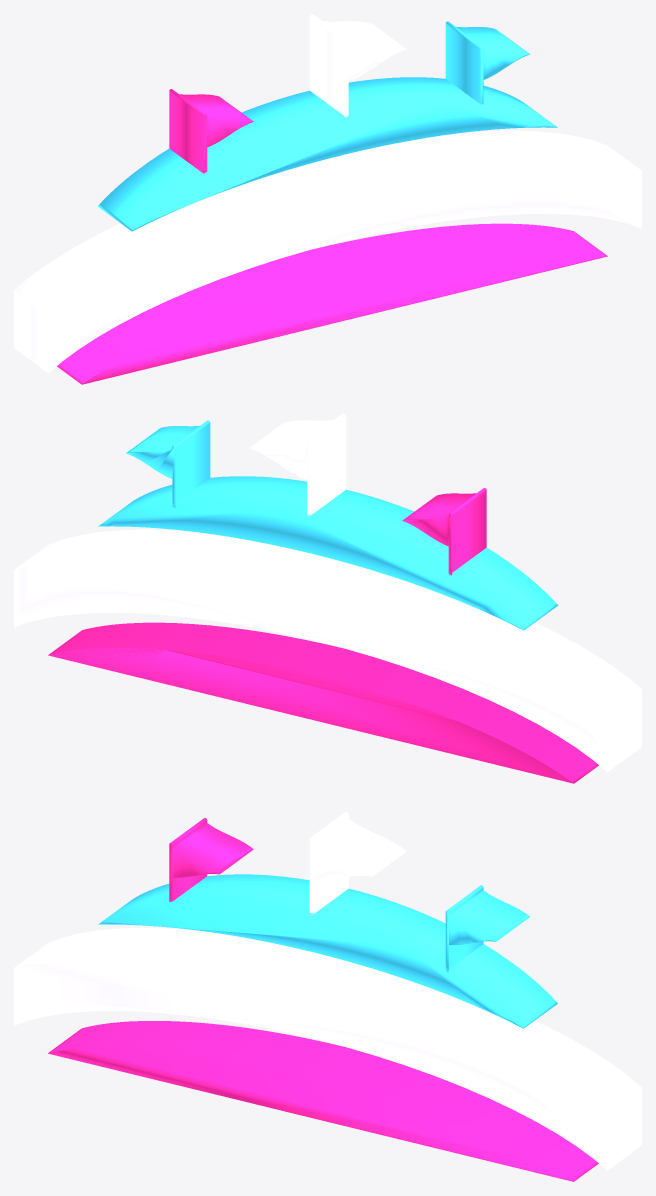
The model's file is asset.glb.
The picture shows the model from 3 angles, top to bottom: view 1: azimuth 30°, elevation 25°; view 2: azimuth 150°, elevation 25°; view 3: azimuth 330°, elevation 25°; orthographic projection.
Visible parts, largest first — view 1: Curve.004, Curve, Curve.005, Curve.001, Curve.003, Curve.002; view 2: Curve.004, Curve, Curve.005, Curve.001, Curve.003, Curve.002; view 3: Curve.004, Curve, Curve.005, Curve.001, Curve.002, Curve.003.
Part boxes in pixels (x1=…): Curve.004: x1=14, y1=130, x2=641, y2=372; Curve: x1=57, y1=223, x2=607, y2=384; Curve.005: x1=97, y1=77, x2=557, y2=231; Curve.001: x1=309, y1=14, x2=406, y2=117; Curve.003: x1=169, y1=89, x2=253, y2=173; Curve.002: x1=445, y1=21, x2=529, y2=104; Curve.004: x1=14, y1=529, x2=641, y2=771; Curve: x1=48, y1=622, x2=598, y2=783; Curve.005: x1=98, y1=476, x2=558, y2=630; Curve.001: x1=249, y1=413, x2=346, y2=516; Curve.003: x1=402, y1=488, x2=486, y2=575; Curve.002: x1=126, y1=420, x2=210, y2=507; Curve.004: x1=14, y1=927, x2=641, y2=1170; Curve: x1=48, y1=1021, x2=598, y2=1181; Curve.005: x1=98, y1=874, x2=557, y2=1028; Curve.001: x1=309, y1=812, x2=406, y2=915; Curve.002: x1=445, y1=885, x2=529, y2=972; Curve.003: x1=169, y1=818, x2=253, y2=901.
Bounding box in the file's own units: 9.94 × 4.49 × 1.
